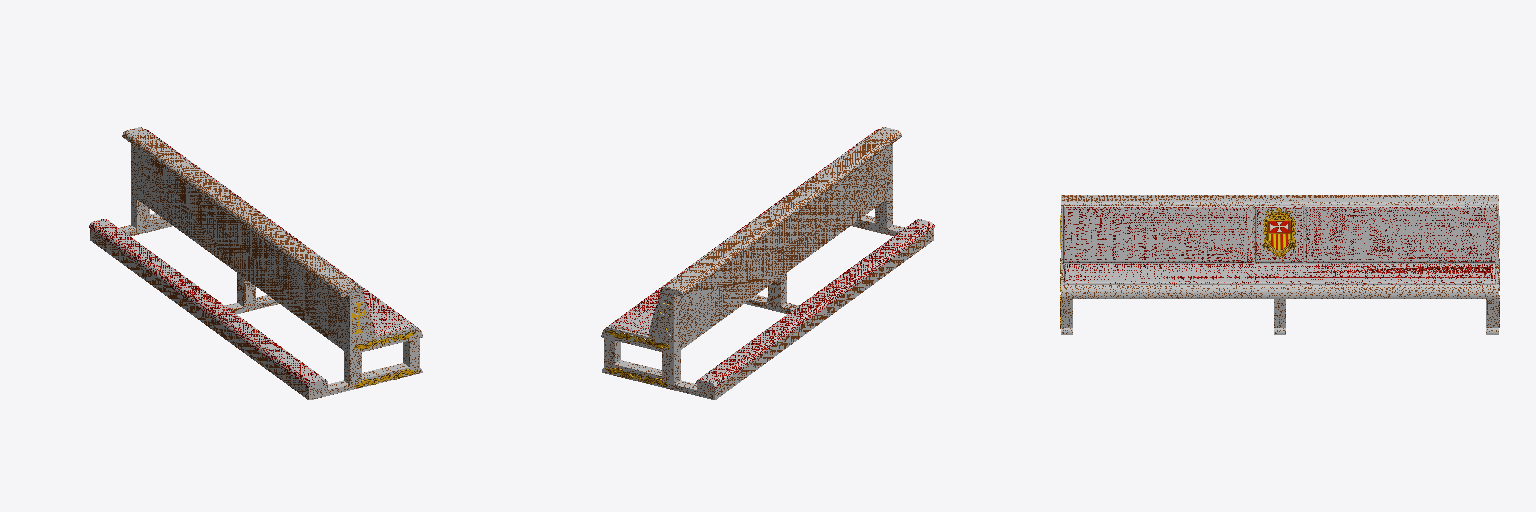
3 renders of one model, left to right at view 1: azimuth 30°, elevation 25°; view 2: azimuth 150°, elevation 25°; view 3: azimuth 270°, elevation 25°, orthographic.
Parts seen in each view (by area): view 1: mesh12_mesh12-geometry; view 2: mesh12_mesh12-geometry; view 3: mesh12_mesh12-geometry, mesh11.001_mesh11-geometry.
Part boxes in pixels (x1,y1,x2,y2): mesh12_mesh12-geometry: (89, 127, 422, 399); mesh12_mesh12-geometry: (601, 127, 934, 399); mesh12_mesh12-geometry: (1061, 195, 1498, 334); mesh11.001_mesh11-geometry: (1262, 207, 1296, 260).
Size of the model in its own units: 0.2796 by 0.2364 by 0.9306.
5 materials, 4 textured.